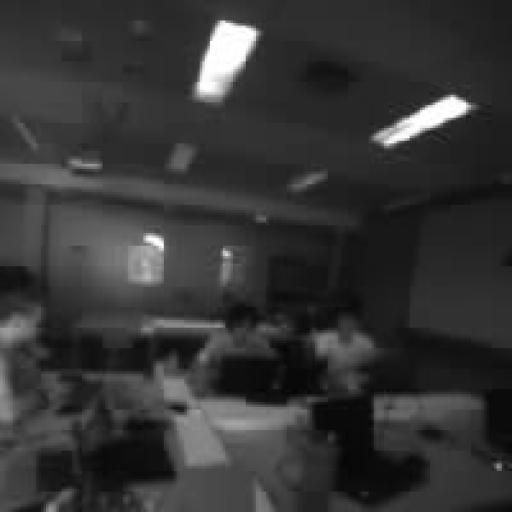human: (192, 305, 273, 394), (0, 267, 46, 422), (313, 305, 378, 394)
